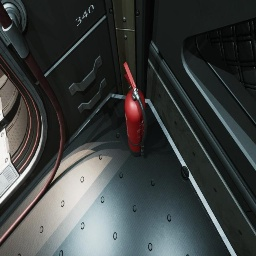FireExtinguisher ]: (124, 62, 147, 157)
